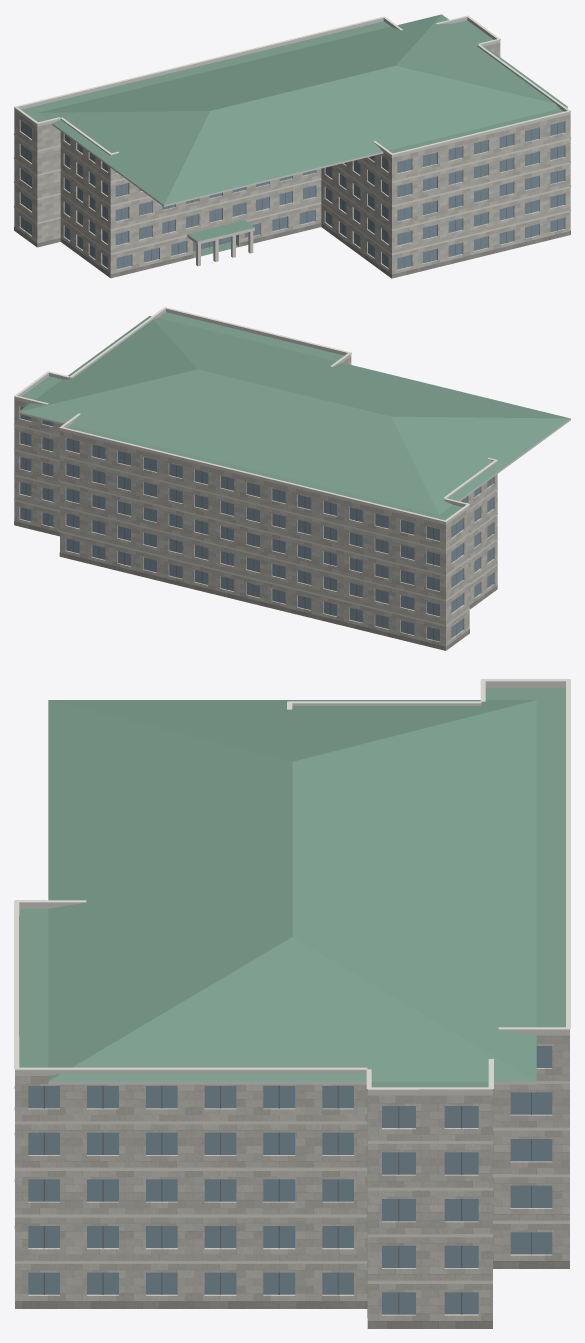
The picture shows the model from 3 angles, top to bottom: view 1: azimuth 30°, elevation 25°; view 2: azimuth 150°, elevation 25°; view 3: azimuth 270°, elevation 25°; orthographic projection. The views are drawn at different scales.
Visible parts, largest first — view 1: eng2__roofAccent, eng2__wall, eng2__glass, eng2__trim, eng2__roof, eng2__parapet, eng2__base, eng2__frame, eng2__column; view 2: eng2__roofAccent, eng2__wall, eng2__glass, eng2__trim, eng2__roof, eng2__parapet, eng2__base, eng2__frame; view 3: eng2__roofAccent, eng2__wall, eng2__glass, eng2__roof, eng2__trim, eng2__base, eng2__parapet, eng2__frame.
Part boxes in pixels (x1,y1,x2,y2): eng2__roofAccent: [38, 14, 567, 205]; eng2__wall: [14, 43, 570, 277]; eng2__glass: [20, 120, 564, 269]; eng2__trim: [14, 15, 570, 255]; eng2__roof: [21, 20, 563, 257]; eng2__parapet: [14, 17, 570, 157]; eng2__base: [14, 223, 570, 278]; eng2__frame: [26, 123, 557, 267]; eng2__column: [196, 231, 253, 266]; eng2__roofAccent: [18, 316, 570, 514]; eng2__wall: [14, 356, 497, 650]; eng2__glass: [20, 406, 493, 641]; eng2__trim: [14, 307, 570, 626]; eng2__roof: [21, 312, 462, 520]; eng2__parapet: [14, 308, 497, 524]; eng2__base: [14, 521, 497, 650]; eng2__frame: [25, 416, 490, 640]; eng2__roofAccent: [48, 700, 536, 1081]; eng2__wall: [15, 1035, 569, 1320]; eng2__glass: [28, 1046, 552, 1314]; eng2__roof: [19, 687, 565, 1087]; eng2__trim: [14, 679, 570, 1283]; eng2__base: [15, 1261, 569, 1328]; eng2__parapet: [15, 681, 569, 1095]; eng2__frame: [43, 1086, 531, 1314].
Size of the model in its own units: 67.99 by 21.22 by 38.99.
Materials: 11 (2 with a texture image).
